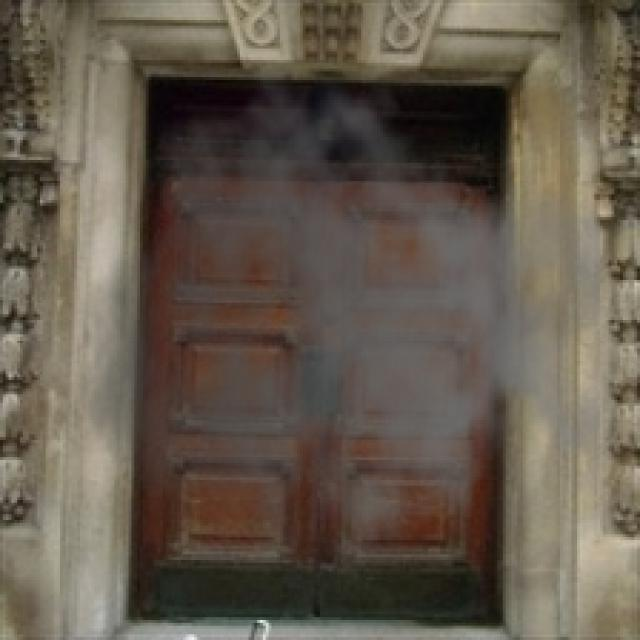smoke: (77, 60, 600, 609)
